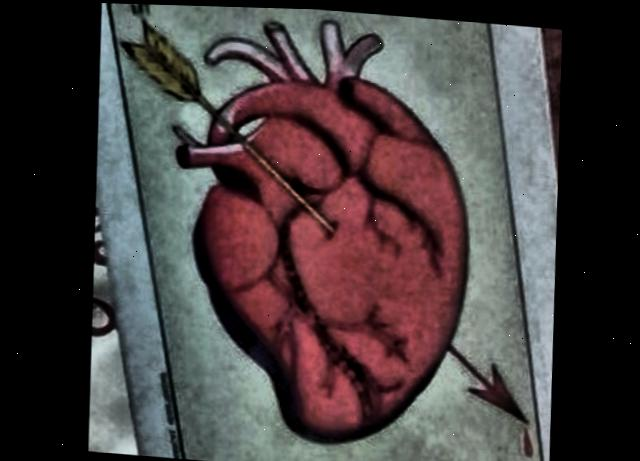El Corazon: (111, 3, 536, 461)
